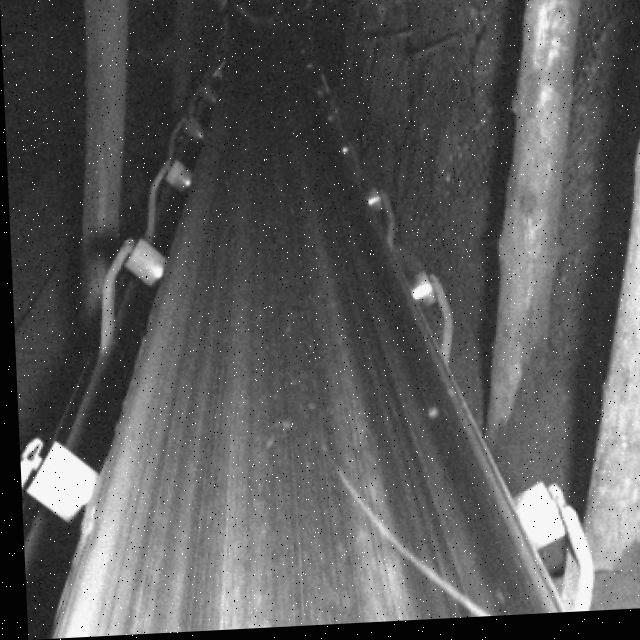bolt: (328, 457, 486, 627)
